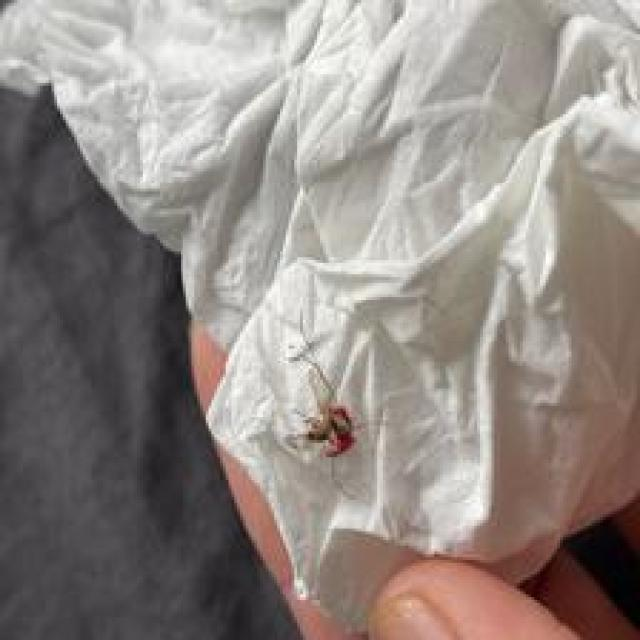Culex: (282, 338, 362, 462)
